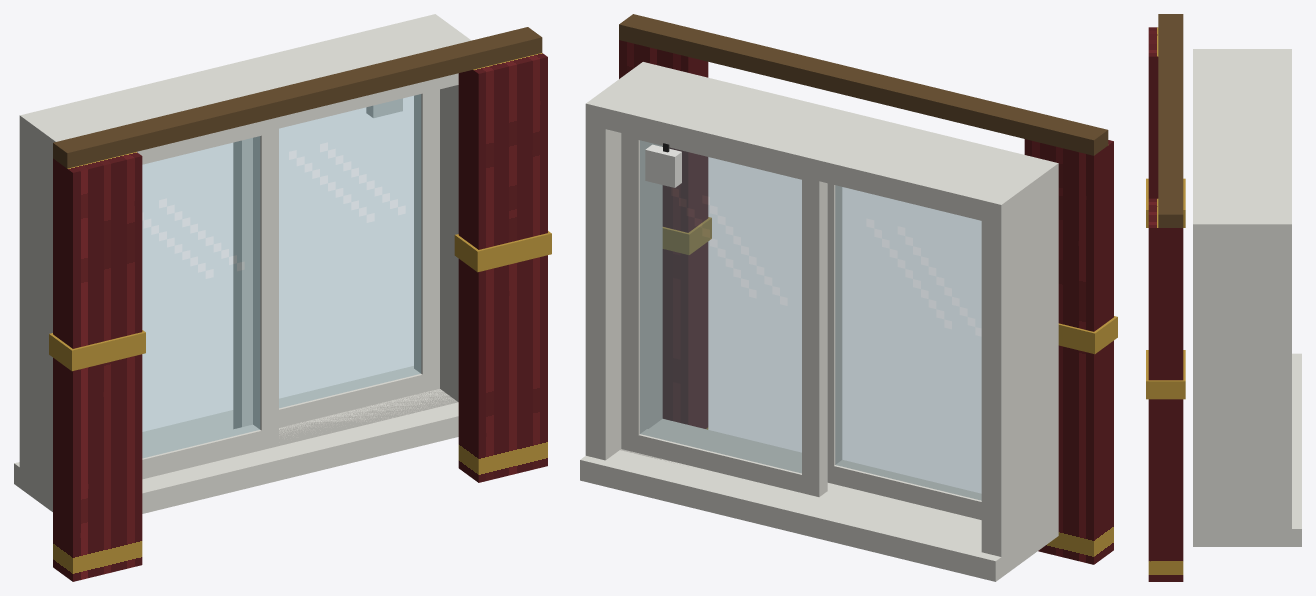
Rendered from t_window_domestic_alarm.glb.
3 views of the same model, side by side, from view 1: azimuth 30°, elevation 25°; view 2: azimuth 150°, elevation 25°; view 3: azimuth 270°, elevation 25° (orthographic). The views are drawn at different scales.
Visible parts, largest first — view 1: block_fixed-glass, block_curtain-1, block_curtain1, block_slider-glass, block_lintel, block_sill, block_rod, block_stile-1, block_slider-r, block_fixed-r, block_stile1, block_fixed-l (+5 smaller); view 2: block_fixed-glass, block_slider-glass, block_lintel, block_stile-1, block_curtain-1, block_sill, block_stile1, block_rod, block_curtain1, block_fixed-r, block_fixed-l, block_fixed-bottom (+5 smaller); view 3: block_stile1, block_lintel, block_curtain1, block_rod, block_sill, block_curtain-1, block_tie1, block_stile-1, block_tie-1.
Part boxes in pixels (left/top/right/bottom): block_fixed-glass: left=279, top=94, right=421, bottom=408; block_curtain-1: left=53, top=152, right=142, bottom=581; block_curtain1: left=458, top=53, right=547, bottom=482; block_slider-glass: left=142, top=136, right=260, bottom=458; block_lintel: left=19, top=14, right=471, bottom=161; block_sill: left=14, top=366, right=458, bottom=513; block_rod: left=53, top=27, right=542, bottom=168; block_stile-1: left=19, top=113, right=74, bottom=510; block_slider-r: left=253, top=129, right=278, bottom=448; block_fixed-r: left=414, top=89, right=439, bottom=391; block_stile1: left=417, top=14, right=470, bottom=401; block_fixed-l: left=233, top=138, right=252, bottom=427; block_fixed-glass: left=640, top=140, right=801, bottom=473; block_slider-glass: left=835, top=185, right=981, bottom=500; block_lintel: left=585, top=62, right=1058, bottom=225; block_stile-1: left=981, top=160, right=1058, bottom=576; block_curtain-1: left=1024, top=139, right=1113, bottom=564; block_sill: left=580, top=419, right=1058, bottom=581; block_stile1: left=585, top=62, right=662, bottom=460; block_rod: left=619, top=14, right=1108, bottom=155; block_curtain1: left=619, top=40, right=708, bottom=429; block_fixed-r: left=621, top=134, right=647, bottom=452; block_fixed-l: left=802, top=177, right=827, bottom=496; block_fixed-bottom: left=621, top=429, right=827, bottom=496; block_stile1: left=1193, top=216, right=1291, bottom=546; block_lintel: left=1193, top=49, right=1291, bottom=242; block_curtain1: left=1148, top=198, right=1183, bottom=581; block_rod: left=1158, top=14, right=1183, bottom=227; block_sill: left=1193, top=353, right=1301, bottom=546; block_curtain-1: left=1148, top=27, right=1158, bottom=198; block_tie1: left=1146, top=350, right=1185, bottom=399; block_stile-1: left=1193, top=49, right=1291, bottom=57; block_tie-1: left=1146, top=178, right=1185, bottom=227.
Bounding box in the file's own units: 0.97 × 0.82 × 0.315.
2 materials, 2 textured.
